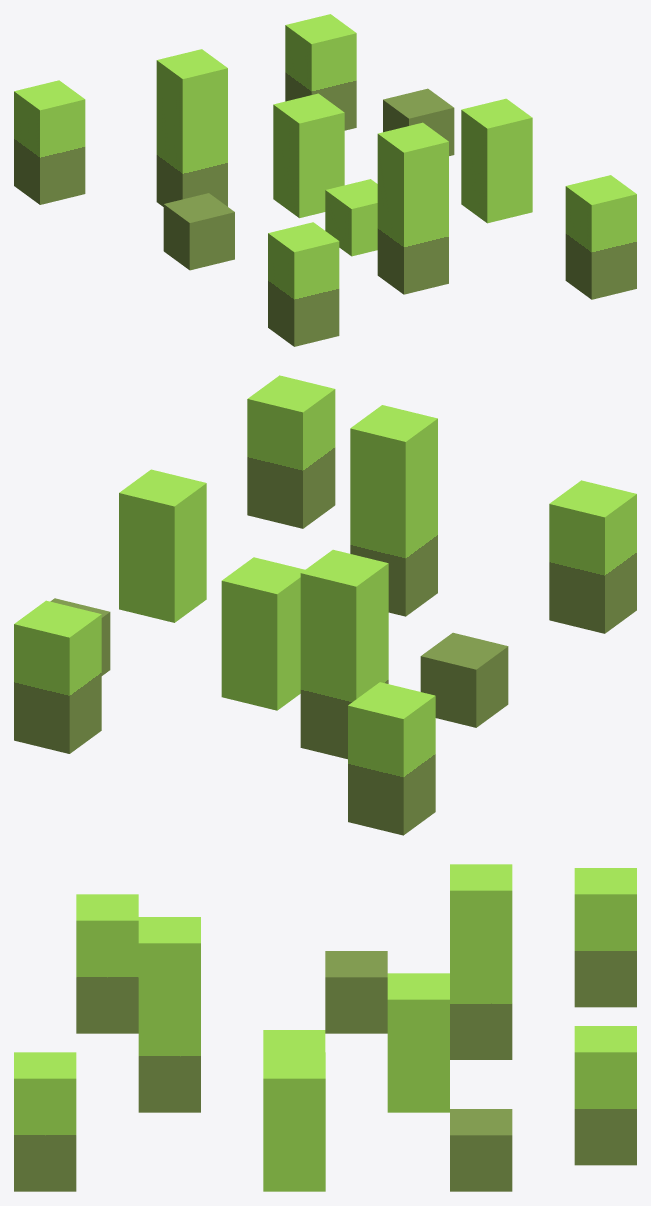
The model's file is grass_short_spring.fbx.
3 renders of one model, top to bottom at view 1: azimuth 30°, elevation 25°; view 2: azimuth 150°, elevation 25°; view 3: azimuth 270°, elevation 25°, orthographic. The views are drawn at different scales.
Visible parts, largest first — view 1: grass_short_spring; view 2: grass_short_spring; view 3: grass_short_spring.
Part boxes in pixels (x1=…): grass_short_spring: x1=14, y1=14, x2=636, y2=346; grass_short_spring: x1=14, y1=375, x2=636, y2=835; grass_short_spring: x1=14, y1=864, x2=636, y2=1191.
Size of the model in its own units: 76.64 by 28.74 by 95.8.
1 material, 1 textured.
